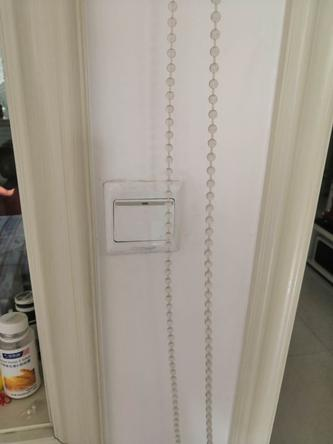switch: (112, 197, 174, 243)
